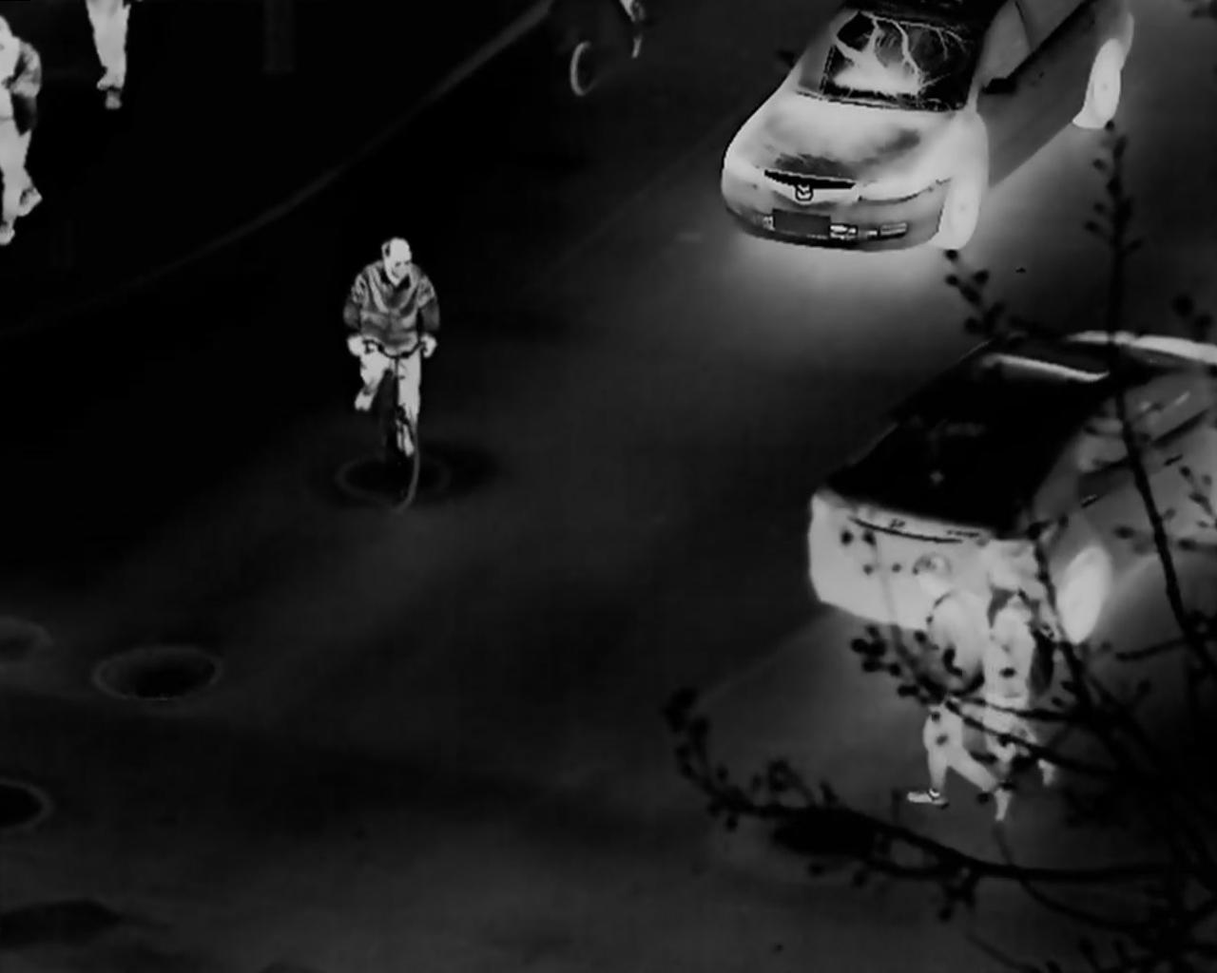person: (904, 547, 1015, 820), (343, 234, 441, 457), (2, 21, 48, 251), (79, 2, 135, 111)
